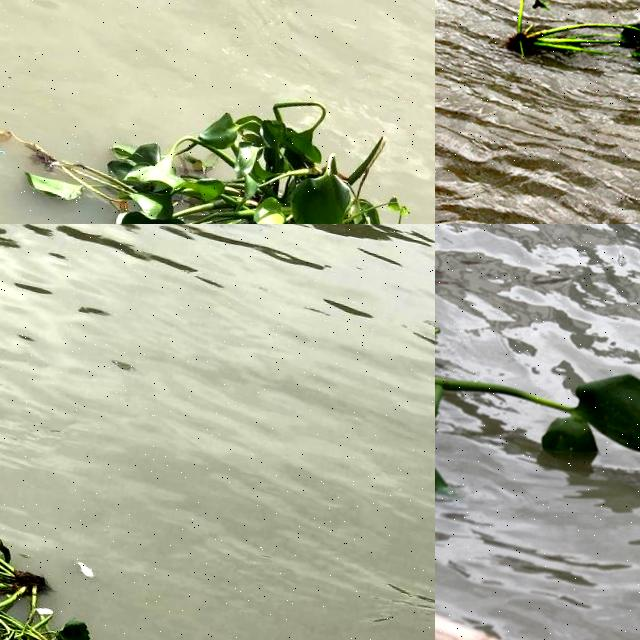water-hyacinth: (14, 50, 436, 225), (436, 366, 640, 493), (499, 1, 640, 96), (1, 548, 90, 640)
